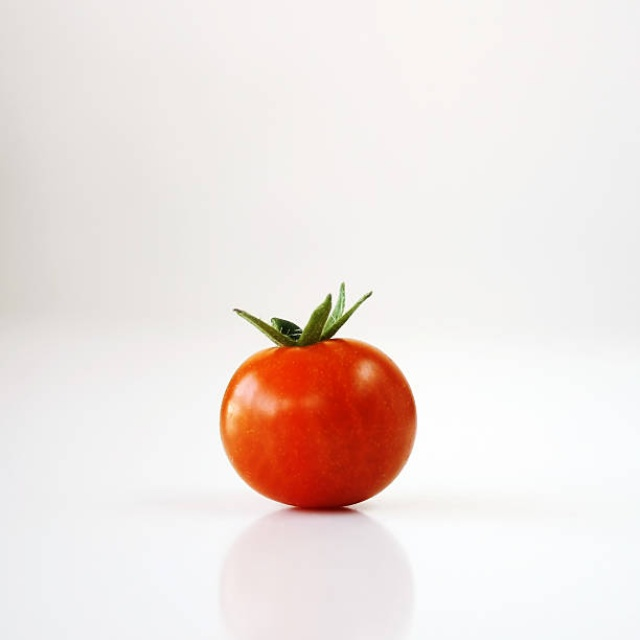tomato: (210, 289, 428, 509)
